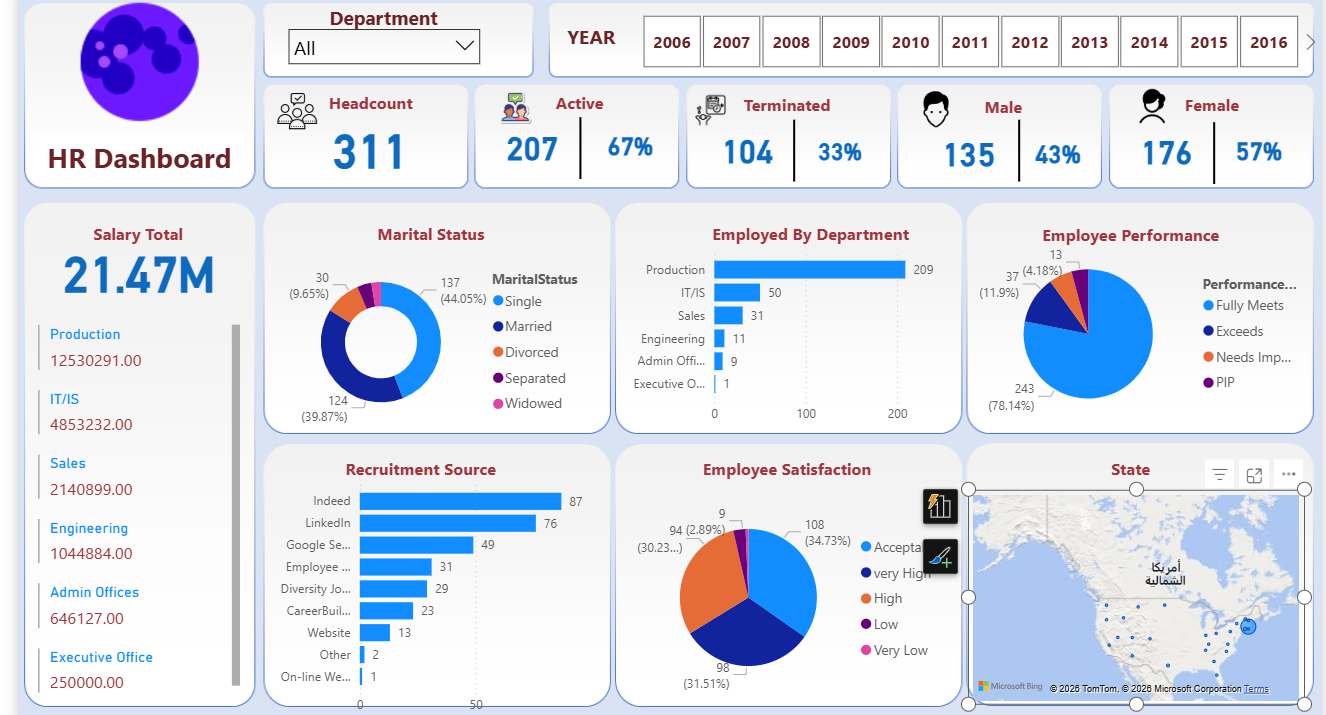

The page's visual inventory and layout, read from the dashboard file:
{"tool":"powerbi","page":{"name":"Page 1","canvas":[1280,720],"ordinal":0},"visuals":[{"type":"image","box":[14.2,0,209.1,139.4],"z":0},{"type":"textbox","box":[14.2,139.4,209.1,49.8],"z":1000},{"type":"textbox","box":[520.8,27.4,85.1,46.2],"z":2000},{"type":"textbox","box":[253.9,93.8,184.7,36.1],"z":3000},{"type":"textbox","box":[254,8.6,209.8,36.8],"z":4000},{"type":"slicer","fields":{"Values":["HRData.Department"]},"box":[255.2,27,208.6,46.6],"z":5000},{"type":"slicer","fields":{"Values":["HRData.Year"]},"box":[587.2,17.3,692.5,64.9],"z":6000},{"type":"textbox","box":[662.2,95.2,184.7,36.1],"z":7000},{"type":"textbox","box":[874.3,96.7,184.7,36.1],"z":8000},{"type":"textbox","box":[1079.2,95.2,184.7,36.1],"z":9000},{"type":"textbox","box":[463.1,93.8,177.5,36.1],"z":10000},{"type":"textbox","box":[26,222.2,184.7,36.1],"z":11000},{"type":"textbox","box":[999.8,453,184.7,36.1],"z":12000},{"type":"textbox","box":[303,453,184.7,36.1],"z":13000},{"type":"textbox","box":[999.8,223.6,184.7,36.1],"z":14000},{"type":"textbox","box":[662.2,222.2,230.8,36.1],"z":15000},{"type":"textbox","box":[313.1,222.2,184.7,36.1],"z":16000},{"type":"textbox","box":[662.2,453,184.7,36.1],"z":17000},{"type":"card","fields":{"Values":["All Measure.Head count"]},"box":[281.3,114,129.8,77.9],"z":18000},{"type":"card","fields":{"Values":["All Measure.Male"]},"box":[884.4,125.5,98.1,66.4],"z":19000},{"type":"card","fields":{"Values":["All Measure.Terrminate"]},"box":[669.4,122.6,92.3,66.4],"z":20000},{"type":"card","fields":{"Values":["All Measure.Active"]},"box":[455.9,119.7,96.7,64.9],"z":21000},{"type":"card","fields":{"Values":["All Measure.Female"]},"box":[1079.2,124.1,95.2,66.4],"z":22000},{"type":"card","fields":{"Values":["All Measure.% of Active"]},"box":[552.6,112.5,98.1,77.9],"z":23000},{"type":"shape","box":[536.7,124.1,31.7,60.6],"z":24000},{"type":"card","fields":{"Values":["All Measure.% Male"]},"box":[982.5,131.3,76.5,56.3],"z":25000},{"type":"card","fields":{"Values":["All Measure.% terminated"]},"box":[754.6,124.1,105.3,66.4],"z":26000},{"type":"shape","box":[745.9,127,31.7,60.6],"z":27000},{"type":"shape","box":[966.7,127,31.7,60.6],"z":28000},{"type":"card","fields":{"Values":["All Measure.% Female"]},"box":[1171.5,124.1,92.3,66.4],"z":29000},{"type":"shape","box":[1158.5,128.4,31.7,60.6],"z":30000},{"type":"donutChart","fields":{"Category":["HRData.MaritalStatus"],"Y":["All Measure.Head count"]},"box":[242.4,258.3,326.1,174.6],"z":31000},{"type":"clusteredBarChart","fields":{"Category":["HRData.Department"],"Y":["All Measure.Head count"]},"box":[587.2,242.4,331.8,190.4],"z":32000},{"type":"pieChart","fields":{"Y":["All Measure.Head count"],"Category":["HRData.PerformanceScore"]},"box":[933.4,242.3,330,190.2],"z":33000},{"type":"clusteredBarChart","fields":{"Y":["All Measure.Head count"],"Category":["HRData.RecruitmentSource"]},"box":[242.3,471.2,325.5,248.2],"z":34000},{"type":"pieChart","fields":{"Y":["All Measure.Head count"],"Category":["HRData.satisfaction status"]},"box":[601.9,470.8,317.3,248.8],"z":35000},{"type":"card","fields":{"Values":["Sum(HRData.Salary)"]},"box":[25.3,222,186.2,101.3],"z":37000},{"type":"map","fields":{"Size":["All Measure.Head count"],"Category":["HRData.State"]},"box":[932,489.1,330.4,212.1],"z":37001},{"type":"multiRowCard","fields":{"Values":["Sum(HRData.Salary)","HRData.Department"]},"box":[14.7,322.7,208.6,379.1],"z":37002},{"type":"image","box":[1079.8,92,67.5,40.5],"z":37003},{"type":"image","box":[869.9,96.9,62.6,38],"z":37004},{"type":"image","box":[246.6,96.9,56.4,42.9],"z":37005},{"type":"image","box":[461.4,96.9,54,34.4],"z":37006},{"type":"image","box":[658.9,101.8,41.7,30.7],"z":37007}]}

Visuals, with their boxes on the page's 1280x720 design canvas (x1, y1, x2, y2). These are canvas units, not pixel positions in the 1326x715 screenshot, which may show the page scaled, cropped or inside an application window:
image: left=14, top=0, right=223, bottom=139
textbox: left=14, top=139, right=223, bottom=189
textbox: left=521, top=27, right=606, bottom=74
textbox: left=254, top=94, right=439, bottom=130
textbox: left=254, top=9, right=464, bottom=45
slicer - HRData.Department: left=255, top=27, right=464, bottom=74
slicer - HRData.Year: left=587, top=17, right=1280, bottom=82
textbox: left=662, top=95, right=847, bottom=131
textbox: left=874, top=97, right=1059, bottom=133
textbox: left=1079, top=95, right=1264, bottom=131
textbox: left=463, top=94, right=641, bottom=130
textbox: left=26, top=222, right=211, bottom=258
textbox: left=1000, top=453, right=1184, bottom=489
textbox: left=303, top=453, right=488, bottom=489
textbox: left=1000, top=224, right=1184, bottom=260
textbox: left=662, top=222, right=893, bottom=258
textbox: left=313, top=222, right=498, bottom=258
textbox: left=662, top=453, right=847, bottom=489
card - All Measure.Head count: left=281, top=114, right=411, bottom=192
card - All Measure.Male: left=884, top=126, right=982, bottom=192
card - All Measure.Terrminate: left=669, top=123, right=762, bottom=189
card - All Measure.Active: left=456, top=120, right=553, bottom=185
card - All Measure.Female: left=1079, top=124, right=1174, bottom=190
card - All Measure.% of Active: left=553, top=112, right=651, bottom=190
shape: left=537, top=124, right=568, bottom=185
card - All Measure.% Male: left=982, top=131, right=1059, bottom=188
card - All Measure.% terminated: left=755, top=124, right=860, bottom=190
shape: left=746, top=127, right=778, bottom=188
shape: left=967, top=127, right=998, bottom=188
card - All Measure.% Female: left=1172, top=124, right=1264, bottom=190
shape: left=1158, top=128, right=1190, bottom=189
donutChart - HRData.MaritalStatus x All Measure.Head count: left=242, top=258, right=568, bottom=433
clusteredBarChart - HRData.Department x All Measure.Head count: left=587, top=242, right=919, bottom=433
pieChart - All Measure.Head count x HRData.PerformanceScore: left=933, top=242, right=1263, bottom=432
clusteredBarChart - All Measure.Head count x HRData.RecruitmentSource: left=242, top=471, right=568, bottom=719
pieChart - All Measure.Head count x HRData.satisfaction status: left=602, top=471, right=919, bottom=720
card - Sum(HRData.Salary): left=25, top=222, right=212, bottom=323
map - All Measure.Head count x HRData.State: left=932, top=489, right=1262, bottom=701
multiRowCard - Sum(HRData.Salary) x HRData.Department: left=15, top=323, right=223, bottom=702
image: left=1080, top=92, right=1147, bottom=132
image: left=870, top=97, right=932, bottom=135
image: left=247, top=97, right=303, bottom=140
image: left=461, top=97, right=515, bottom=131
image: left=659, top=102, right=701, bottom=132
